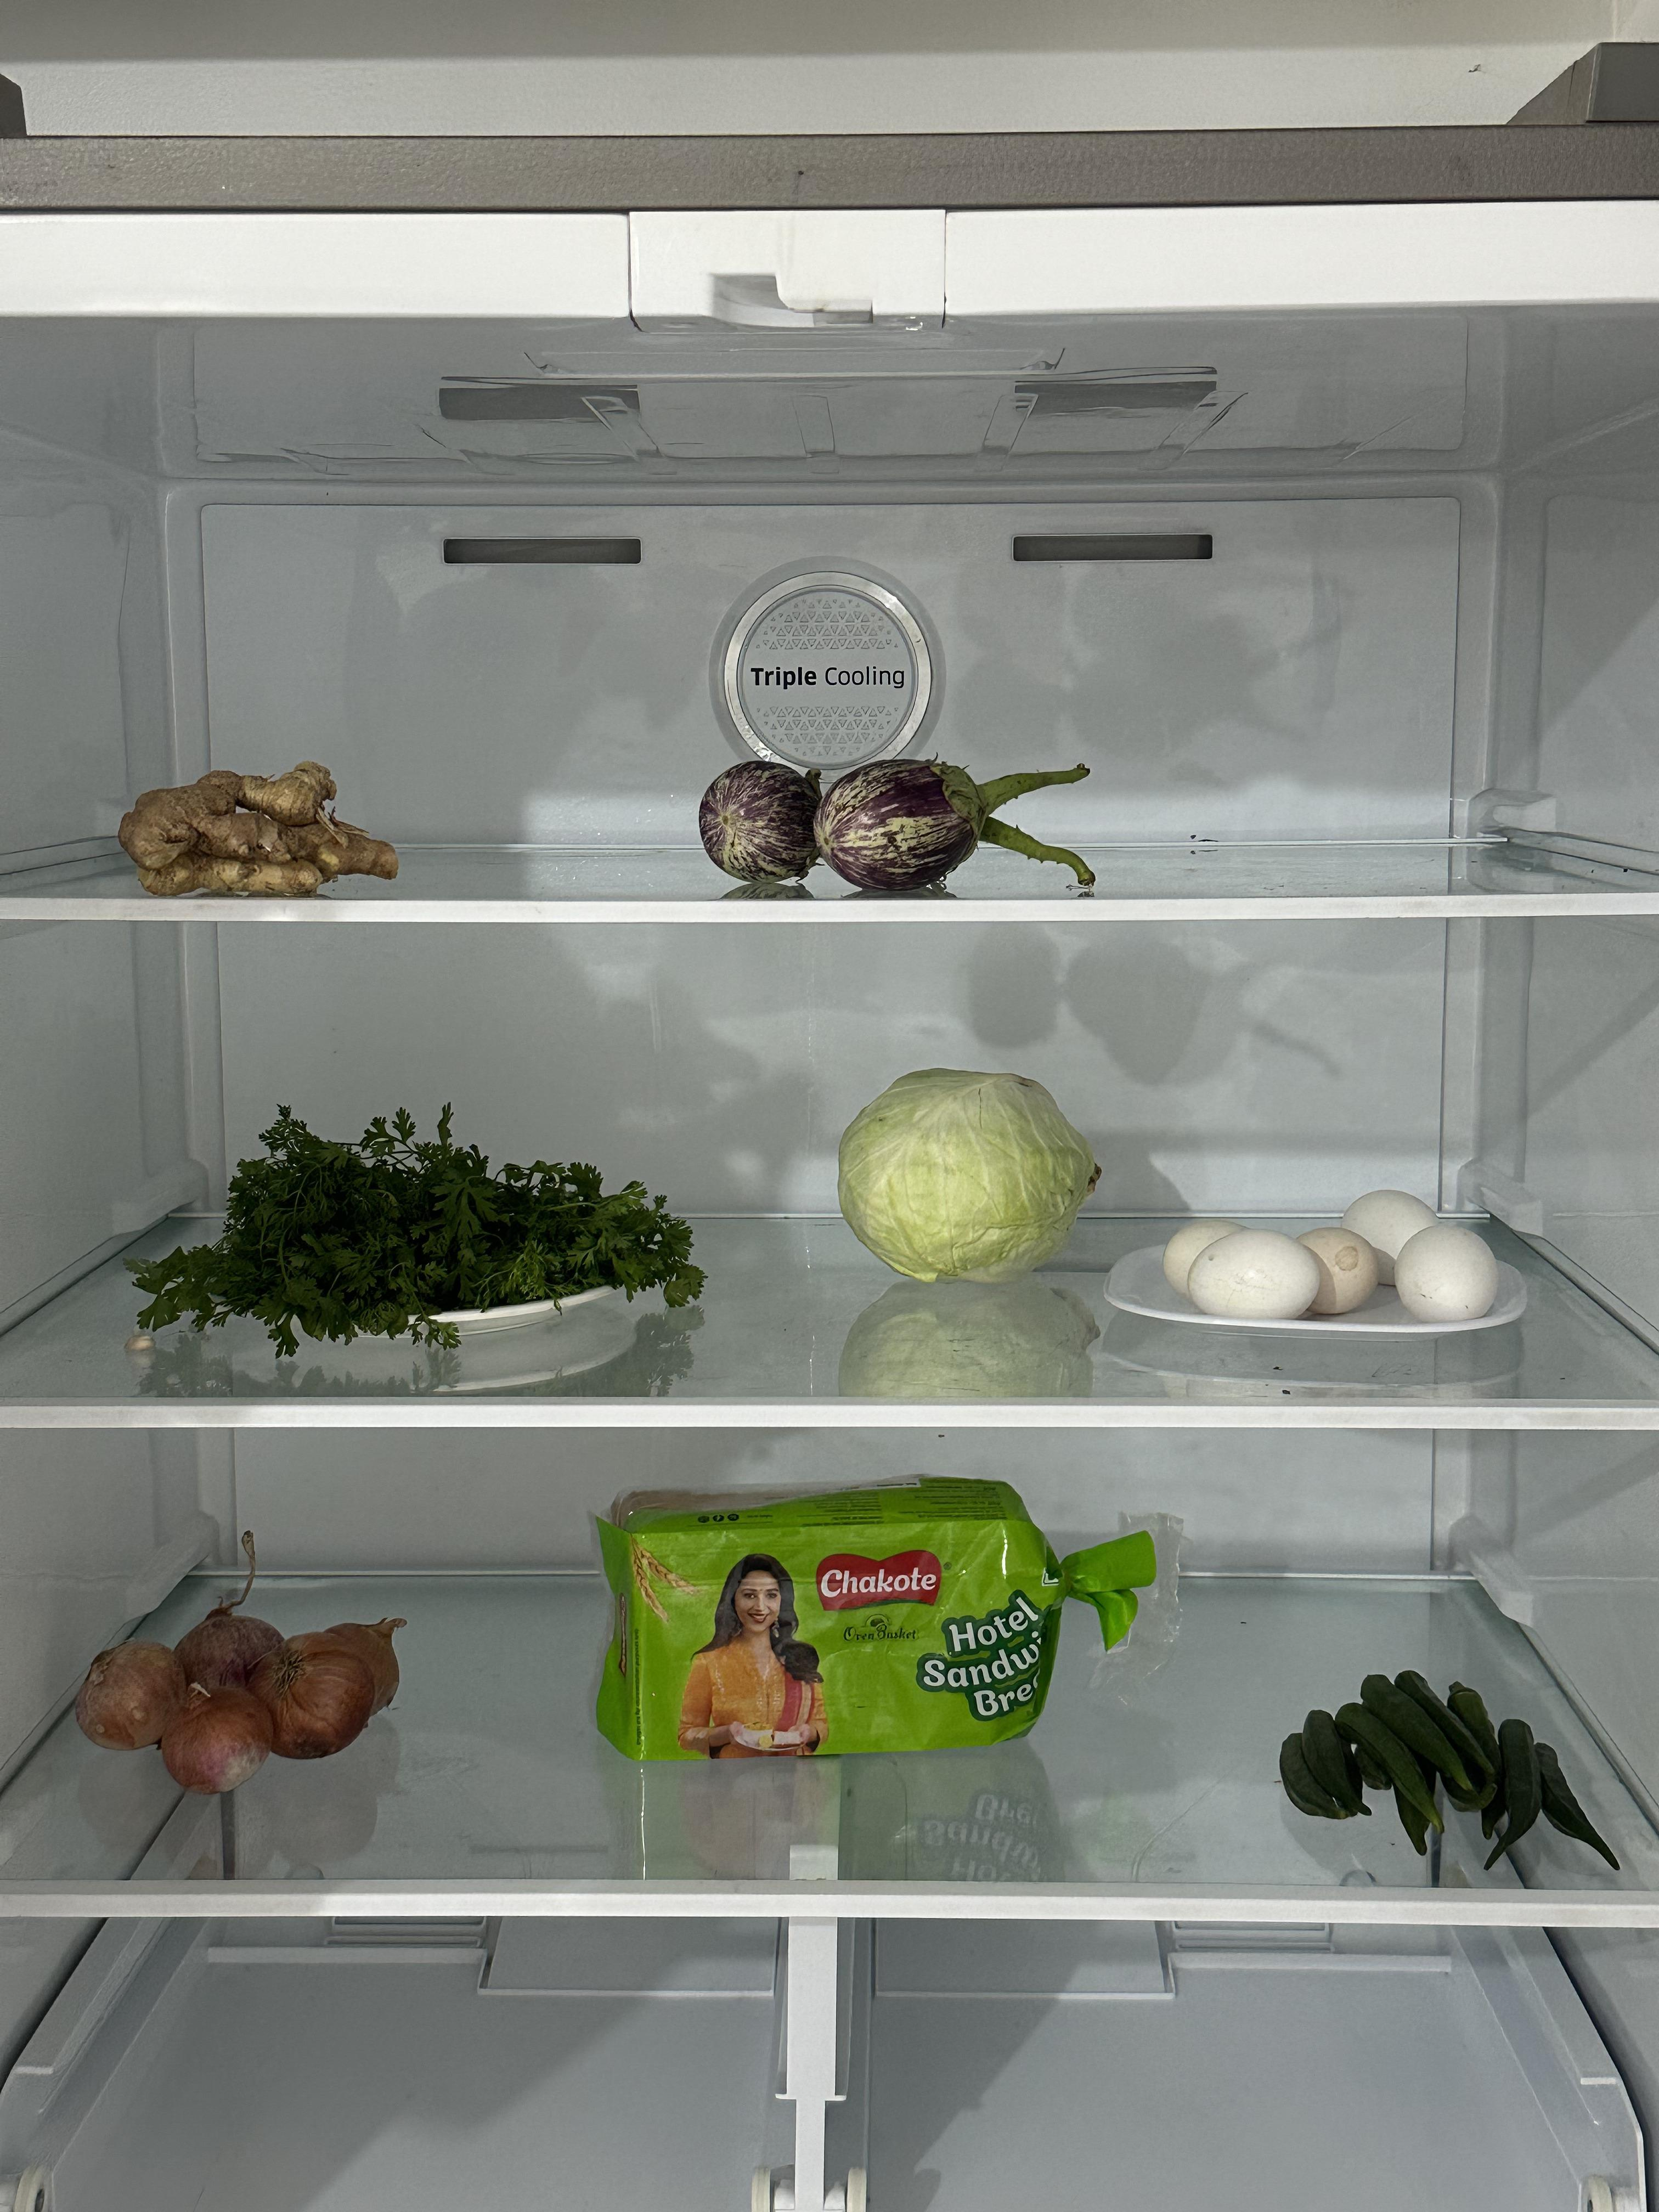bread: (586, 1474, 1086, 1771)
bringal: (697, 756, 1040, 895)
cabbage: (838, 1064, 1098, 1278)
coriander: (185, 1120, 699, 1331)
egg: (1152, 1184, 1509, 1329)
ginger: (119, 756, 404, 902)
okra: (1265, 1655, 1610, 1878)
onion: (68, 1599, 411, 1799)
